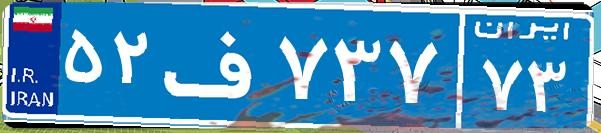2: (110, 28, 158, 105)
3: (330, 28, 385, 110), (525, 38, 570, 115)
5: (57, 26, 110, 107)
7: (385, 28, 445, 110), (273, 28, 330, 110), (475, 38, 525, 113)
ف: (158, 15, 273, 115)
